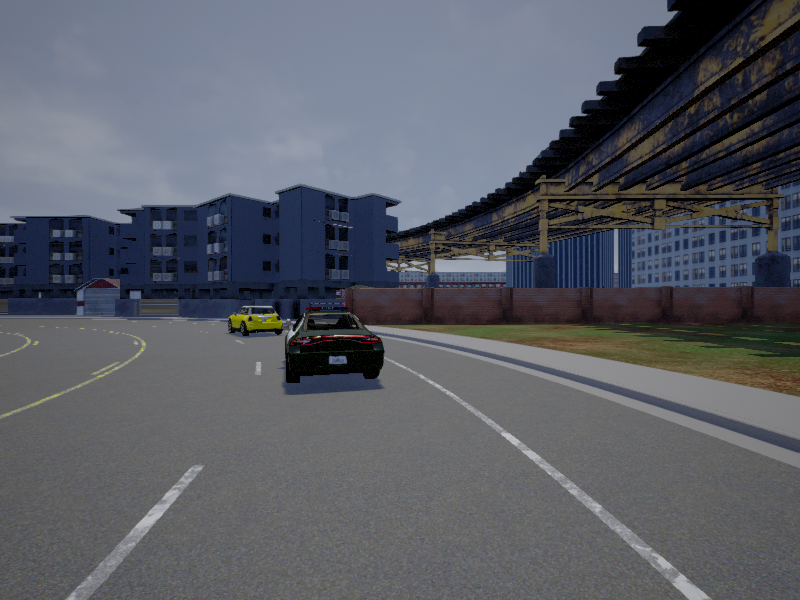Benign: (284, 305, 385, 385), (228, 305, 285, 339)
